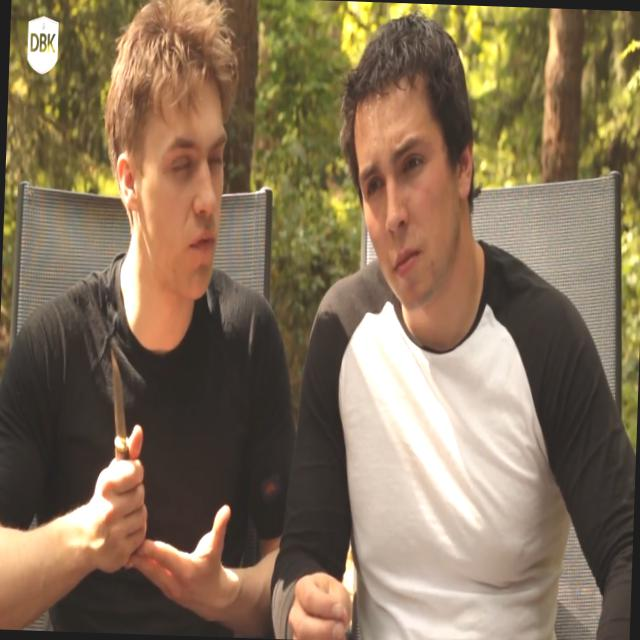knife: (90, 328, 158, 526)
